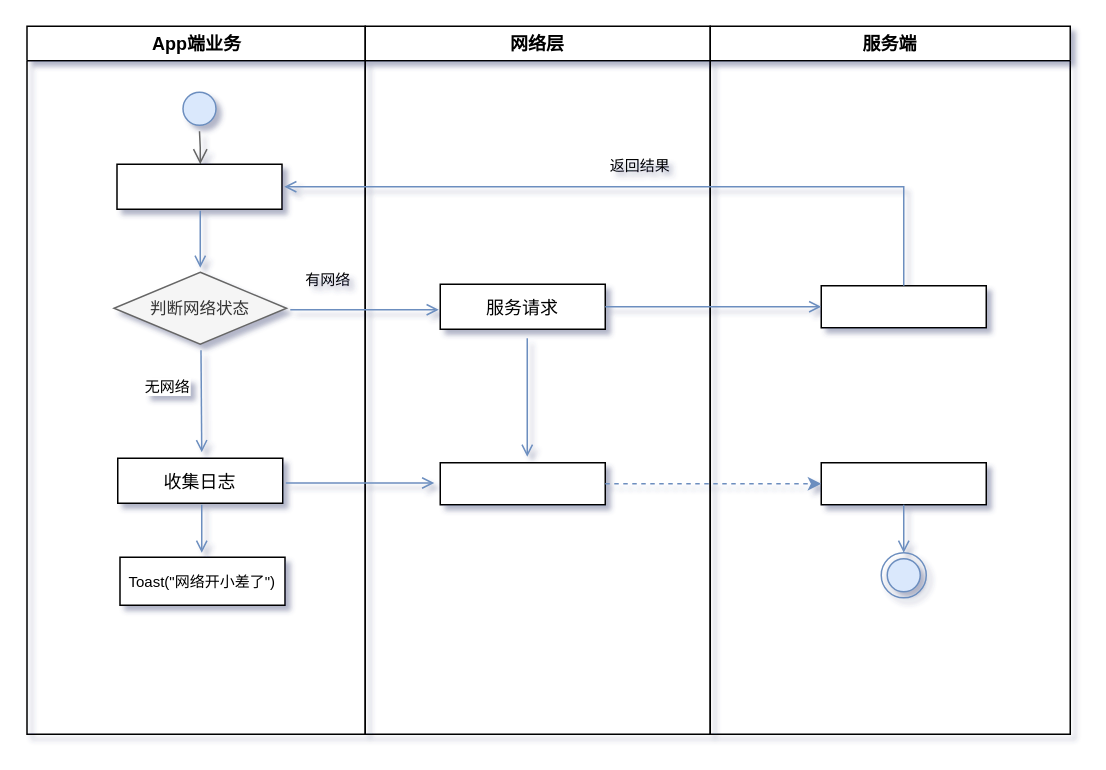
Some shapes in this 1106 by 770 pixel diagram are drawn without their labels. The centre of each missing label's shape, as x and y in pixels:
"业务逻辑" goes at pixel 199 186.
"后端服务" goes at pixel 903 306.
"日志上报" goes at pixel 522 483.
"链路存储" goes at pixel 903 483.
